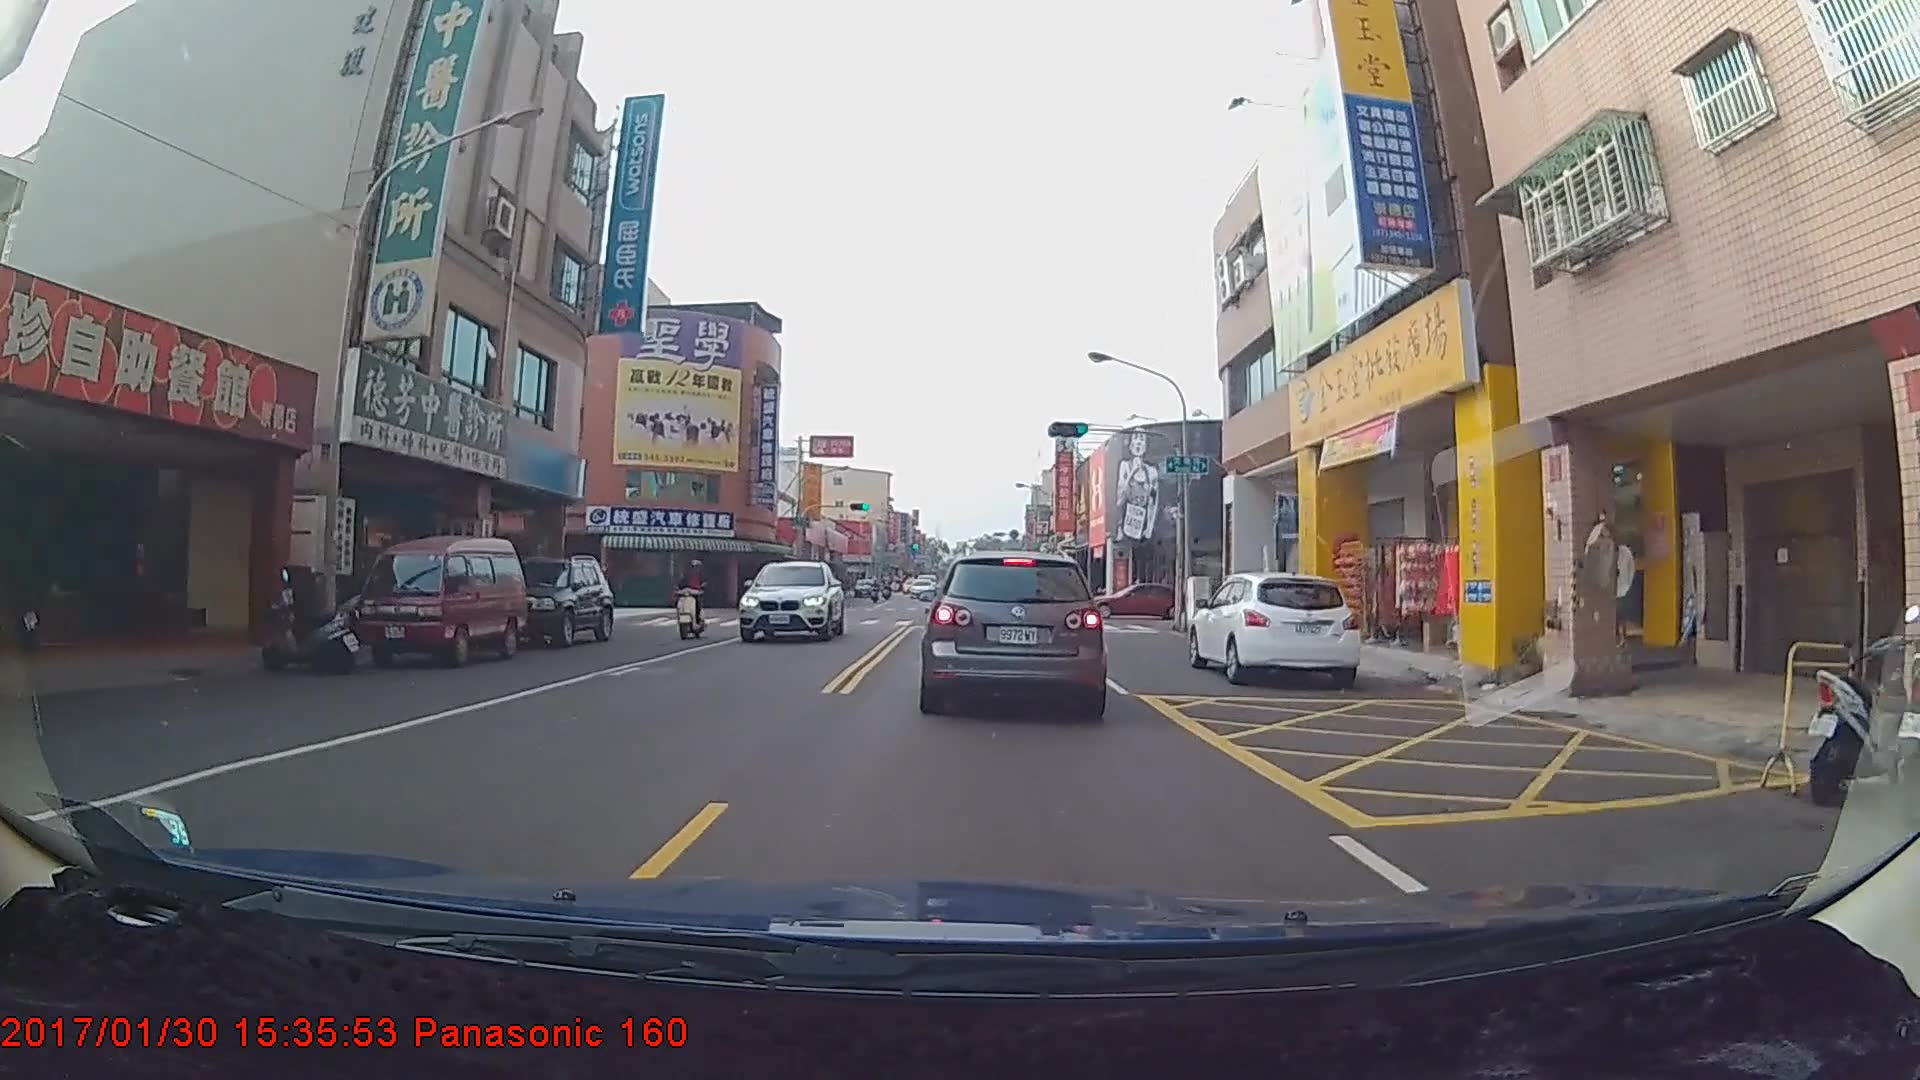rider: (669, 555, 715, 640)
vehicle: (923, 545, 1104, 715), (351, 532, 527, 669), (1188, 569, 1361, 687), (488, 553, 613, 646), (745, 555, 846, 643), (1083, 582, 1192, 618), (908, 577, 935, 597)
